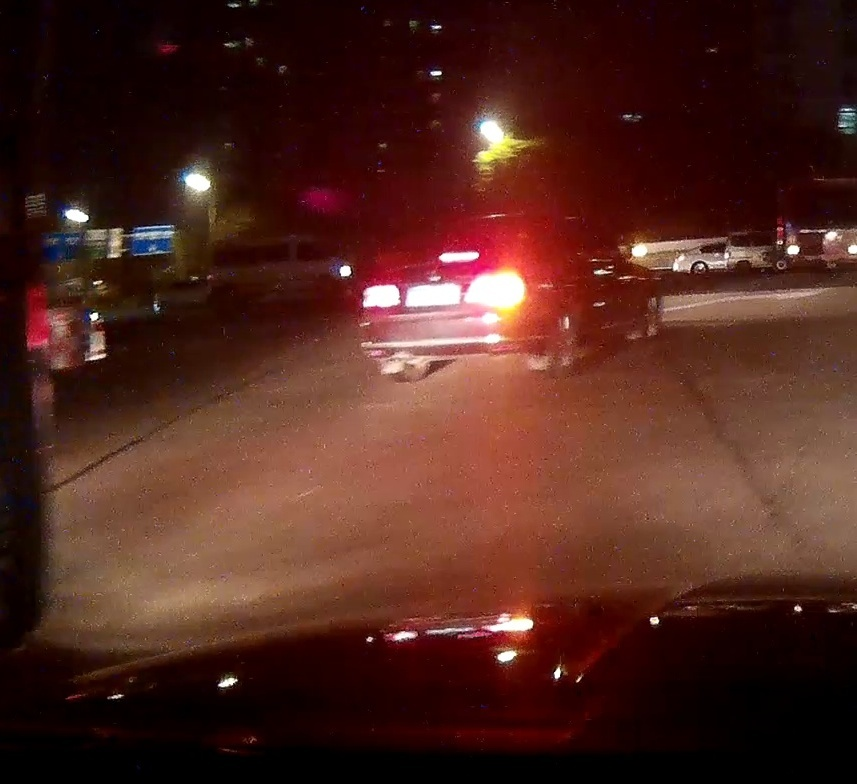L_light: (361, 285, 399, 307)
R_light: (470, 273, 528, 306)
T_light: (438, 251, 478, 262)
night-right: (359, 215, 533, 383)
